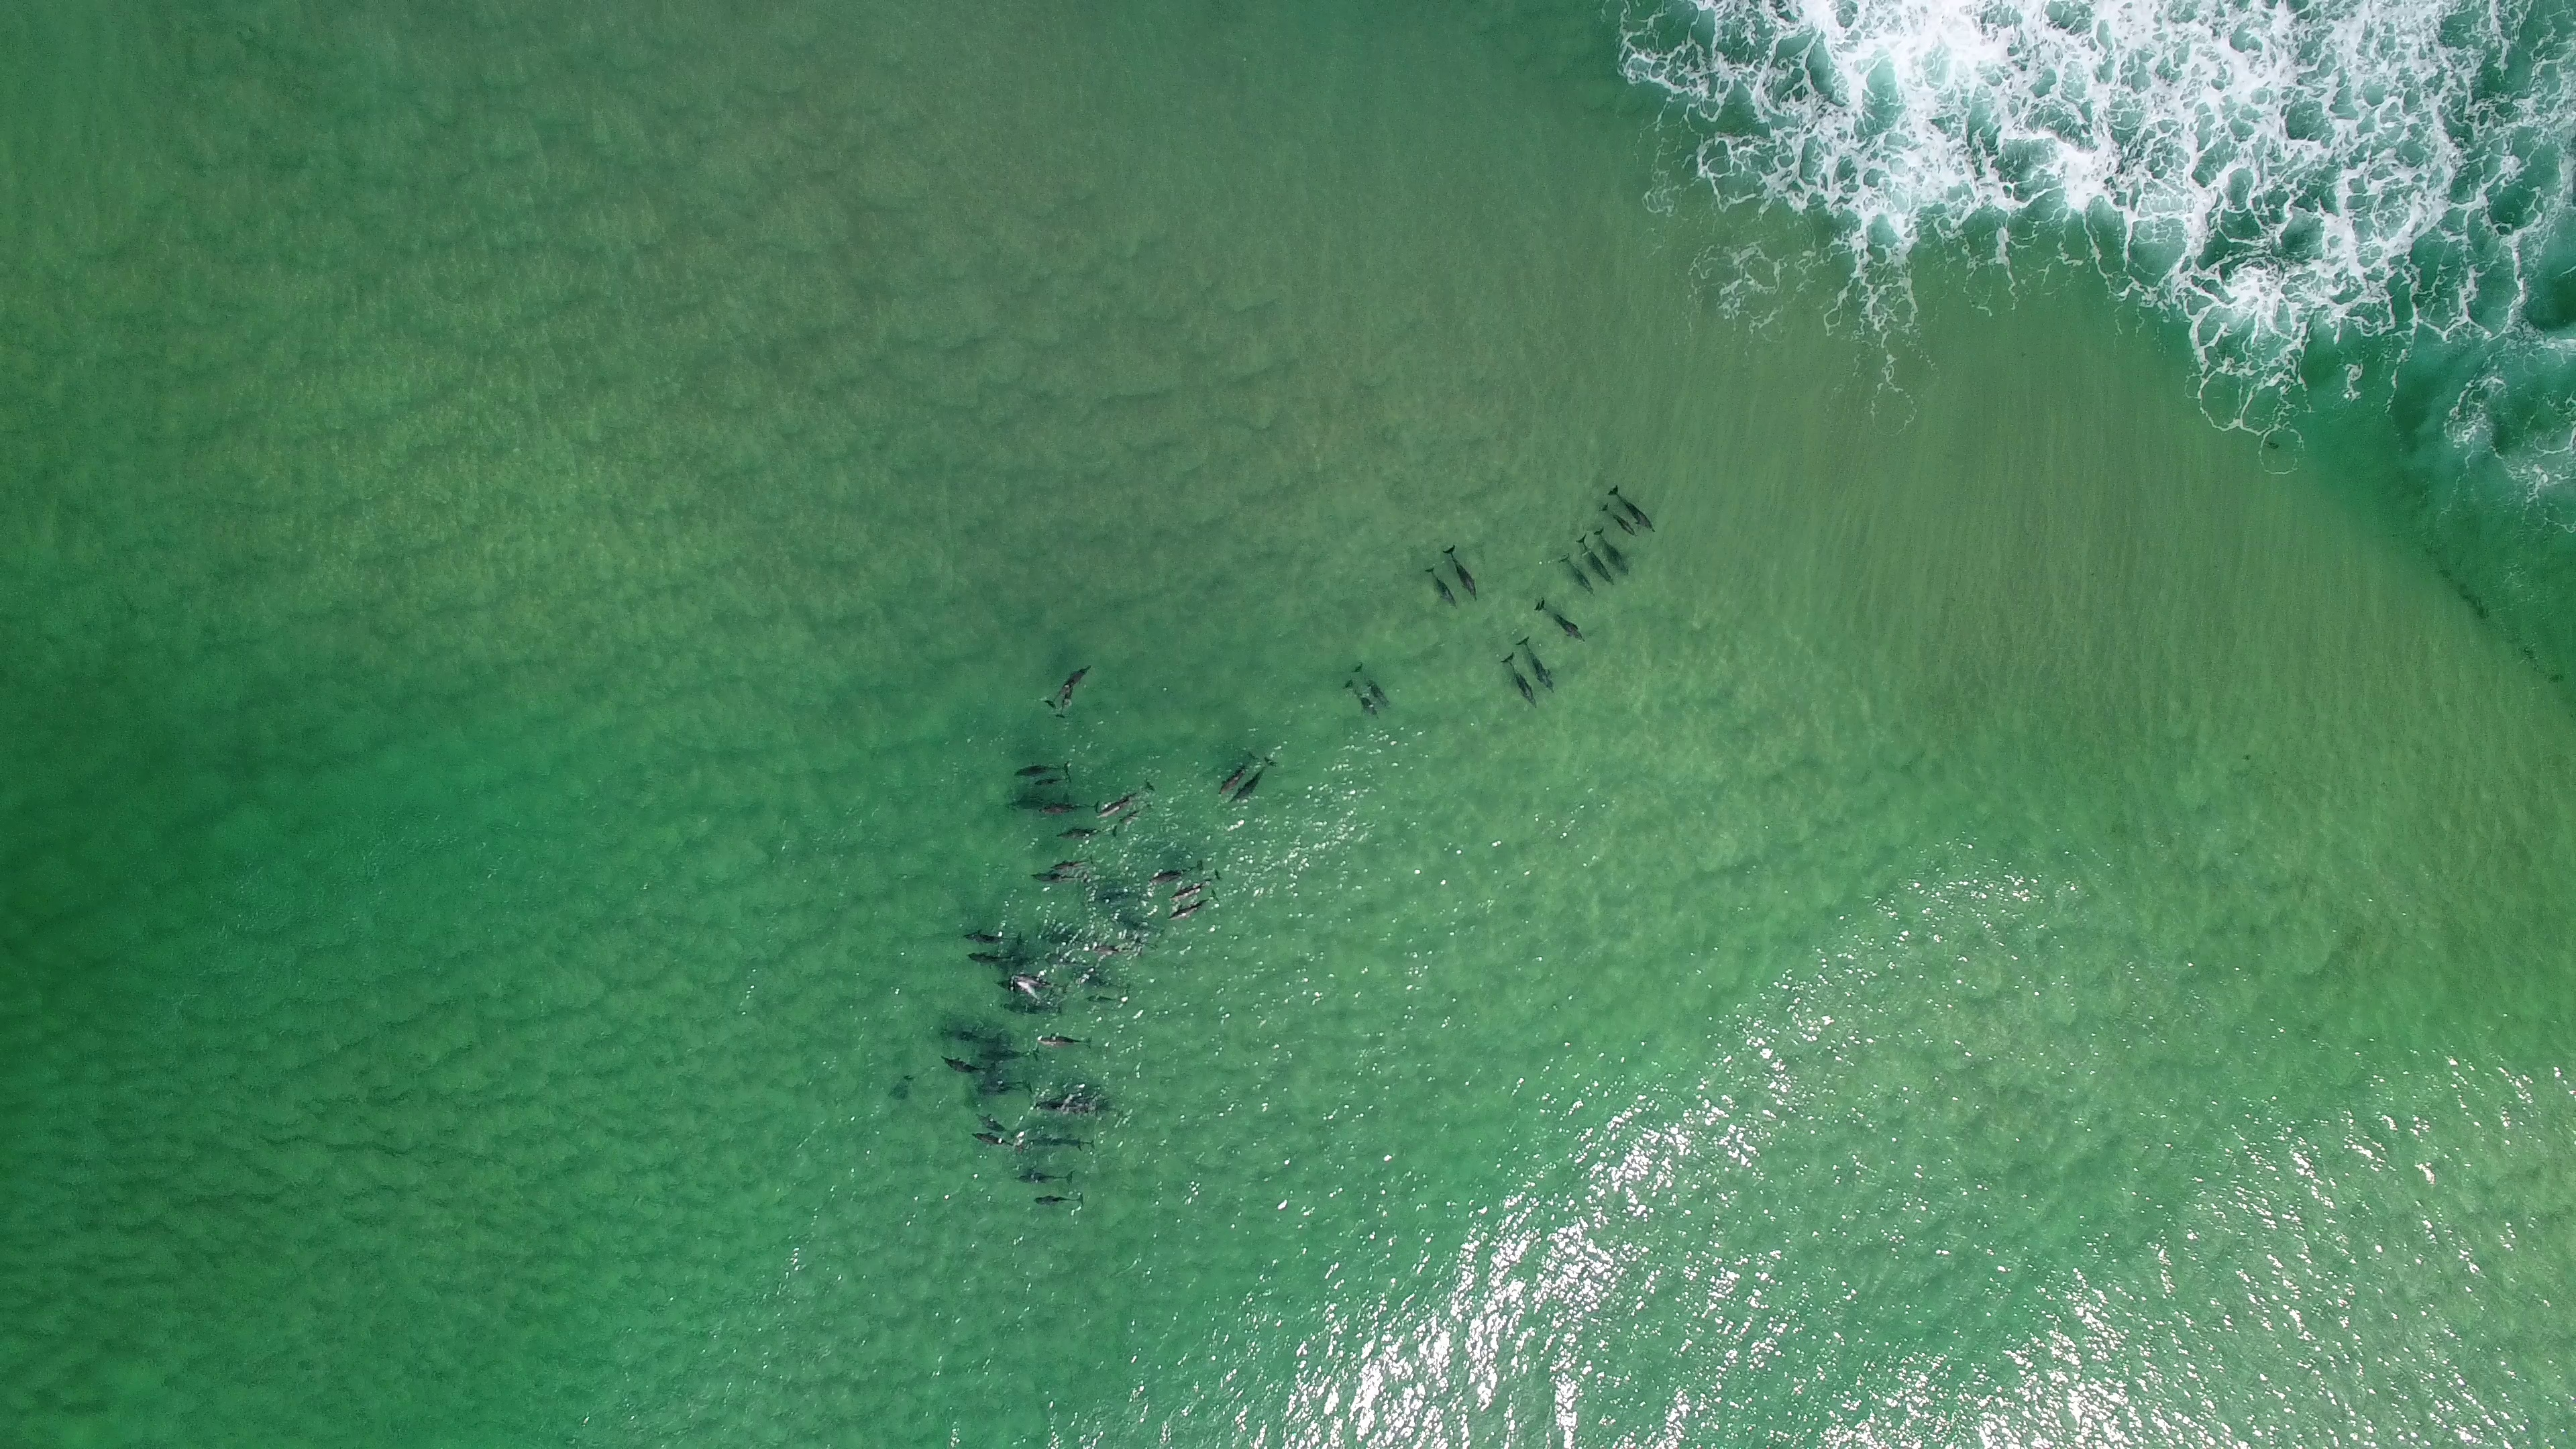dolphin: (1044, 663, 1093, 718), (1610, 487, 1661, 536), (1536, 594, 1587, 644), (1224, 754, 1272, 805), (1514, 633, 1555, 694), (1095, 778, 1155, 819), (1437, 545, 1479, 600), (1502, 655, 1543, 711), (1571, 536, 1615, 586), (1109, 909, 1171, 941), (1587, 531, 1631, 575), (1164, 888, 1219, 924), (1102, 801, 1154, 839), (1145, 858, 1207, 888), (1049, 1099, 1129, 1122), (1169, 867, 1221, 902), (1353, 667, 1394, 711), (1421, 563, 1460, 609), (1031, 1129, 1099, 1155), (941, 1021, 1012, 1046), (968, 1129, 1026, 1155), (1010, 973, 1072, 998), (975, 1072, 1037, 1097), (1341, 679, 1380, 718), (1212, 752, 1249, 793), (1031, 796, 1102, 817), (1030, 1189, 1093, 1212), (1560, 554, 1594, 596), (1070, 970, 1134, 991), (994, 998, 1070, 1016), (936, 1053, 994, 1076), (1012, 1166, 1081, 1185), (975, 1111, 1019, 1141), (1601, 506, 1638, 540), (1028, 869, 1092, 888), (1040, 948, 1099, 970), (966, 950, 1030, 970), (1049, 1086, 1111, 1106), (959, 927, 1026, 945), (1088, 939, 1148, 959), (1035, 1031, 1095, 1051), (980, 1047, 1040, 1065), (1083, 886, 1141, 904), (1058, 826, 1122, 842), (1008, 761, 1070, 777), (1049, 855, 1097, 872), (1085, 993, 1134, 1008), (1028, 775, 1076, 787)
